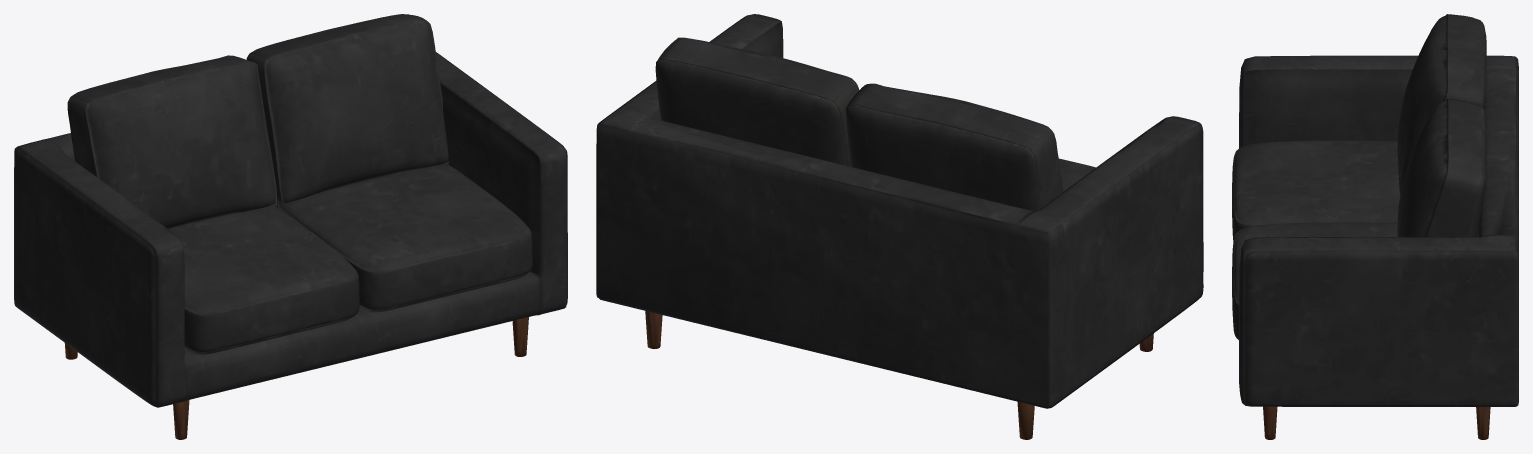
Rendered from B07P5LMFPN.glb.
3 views of the same model, side by side, from view 1: azimuth 30°, elevation 25°; view 2: azimuth 150°, elevation 25°; view 3: azimuth 270°, elevation 25° (orthographic). The views are drawn at different scales.
Visible parts, largest first — view 1: RootNode; view 2: RootNode; view 3: RootNode.
Part boxes in pixels (x1=…): RootNode: x1=14, y1=14, x2=567, y2=439; RootNode: x1=596, y1=14, x2=1203, y2=439; RootNode: x1=1232, y1=14, x2=1518, y2=439.
Size of the model in its own units: 1.43 by 0.8991 by 0.8788.
1 material, 1 textured.
